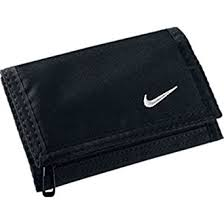monedero: (1, 28, 224, 192)
